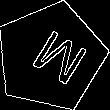M_SW: (17, 23, 85, 90)
